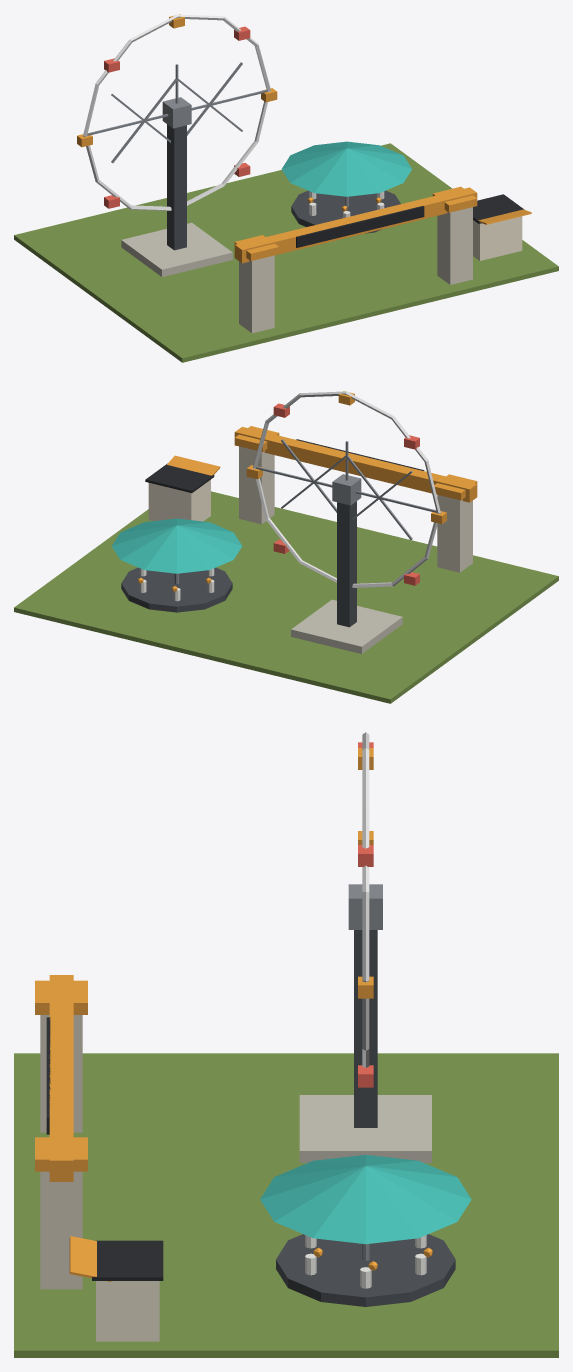
The model's file is building.theme-park.glb.
The picture shows the model from 3 angles, top to bottom: view 1: azimuth 30°, elevation 25°; view 2: azimuth 150°, elevation 25°; view 3: azimuth 270°, elevation 25°; orthographic projection. The views are drawn at different scales.
Parts seen in each view (by area): view 1: building.theme-park; view 2: building.theme-park; view 3: building.theme-park.
Part boxes in pixels (<box>): building.theme-park: <box>14,14,558,362</box>; building.theme-park: <box>14,391,558,703</box>; building.theme-park: <box>14,732,558,1357</box>.
Bounding box in the file's own units: 26.6 × 16.44 × 20.6.
